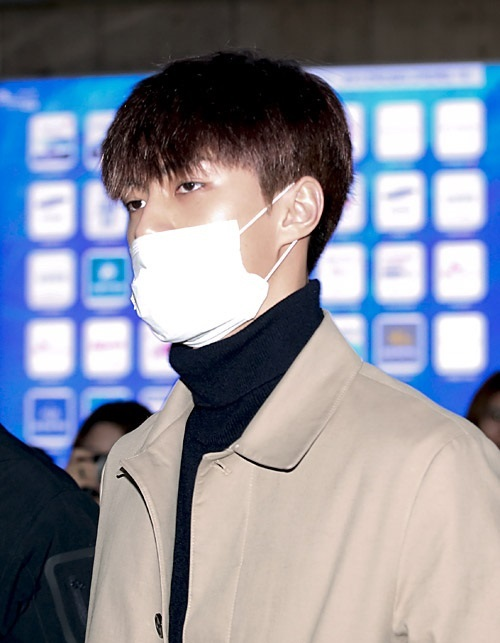face_mask: (123, 108, 272, 338)
